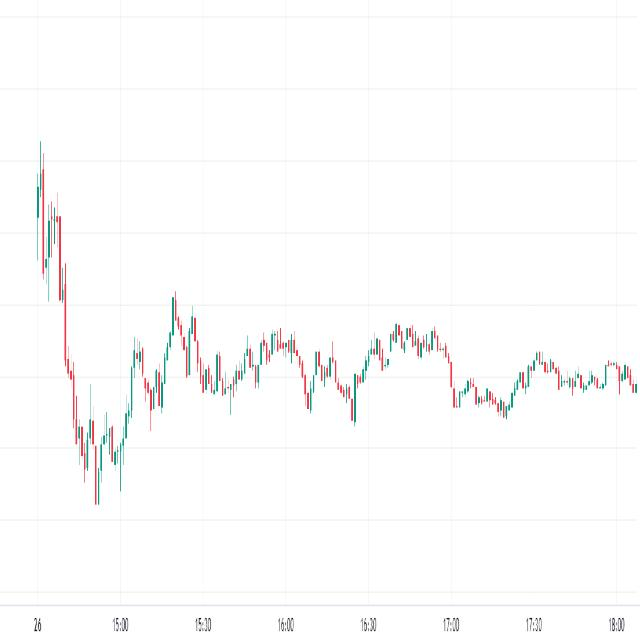Ascending-Triangle: (58, 288, 239, 622)
